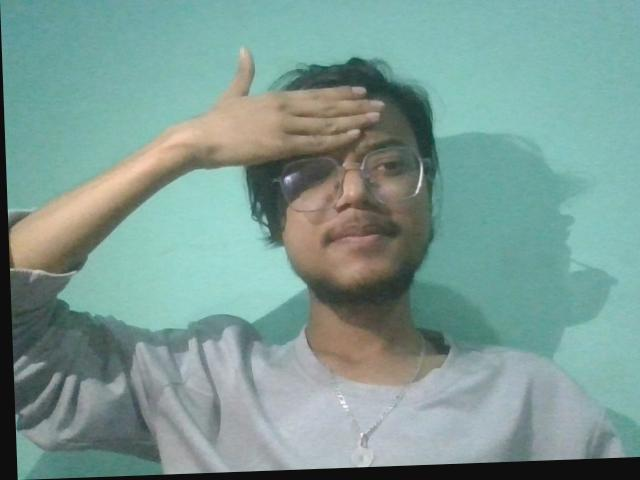forget: (154, 34, 397, 177)
